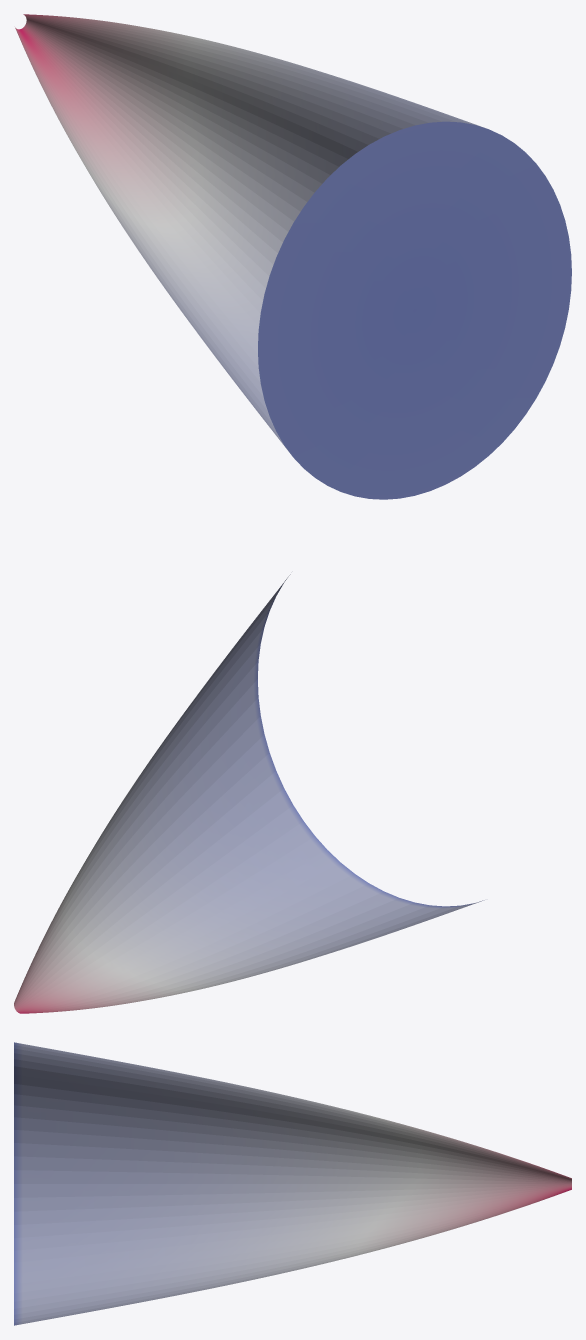
File: frame_003.glb
The picture shows the model from 3 angles, top to bottom: view 1: azimuth 30°, elevation 25°; view 2: azimuth 150°, elevation 25°; view 3: azimuth 270°, elevation 25°; orthographic projection. The views are drawn at different scales.
Visible parts, largest first — view 1: world; view 2: world; view 3: world.
Boxes of the visible parts, left/top/right/bottom form: world: left=15, top=14, right=571, bottom=499; world: left=14, top=574, right=484, bottom=1013; world: left=14, top=1042, right=571, bottom=1325.
Bounding box in the file's own units: 0.4596 × 0.5177 × 1.
